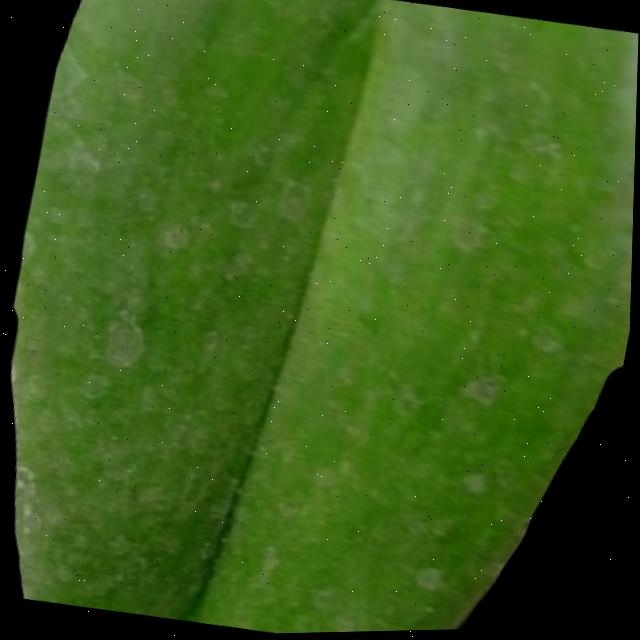mite: (407, 364, 517, 605), (70, 281, 178, 414), (99, 314, 153, 374)
sunburn: (417, 342, 626, 632)
